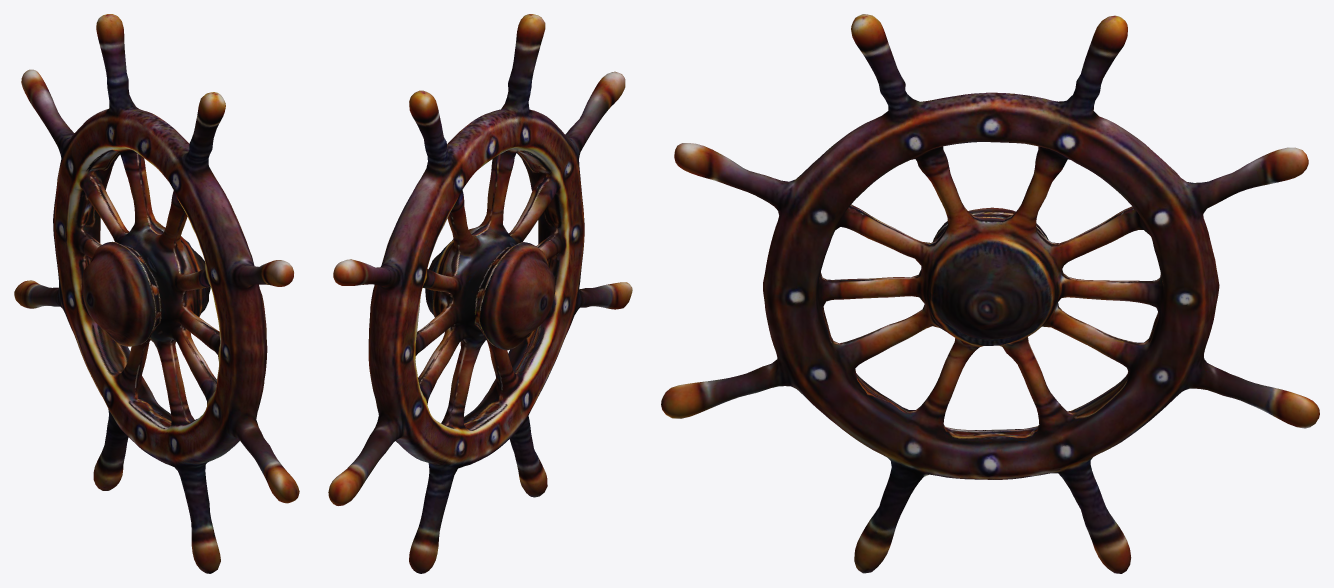
File: b172169c2194_Circular_wooden_shi.fbx
3 views of the same model, side by side, from view 1: azimuth 30°, elevation 25°; view 2: azimuth 150°, elevation 25°; view 3: azimuth 270°, elevation 25° (orthographic). The views are drawn at different scales.
Parts seen in each view (by area): view 1: mesh; view 2: mesh; view 3: mesh.
Boxes of the visible parts, box(x1,y1,x2,y2) form: mesh: box(14, 14, 299, 573); mesh: box(328, 14, 632, 573); mesh: box(661, 14, 1319, 573).
Size of the model in its own units: 22.53 by 93.53 by 99.97.
